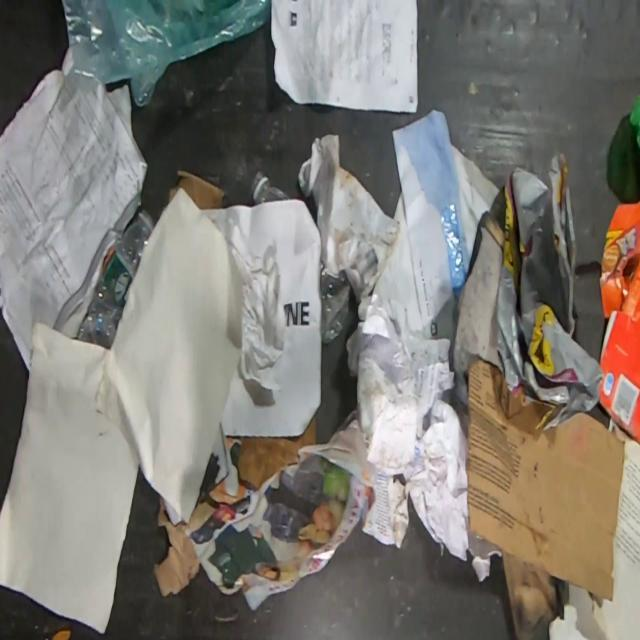cardboard: (465, 359, 625, 607), (496, 154, 602, 431), (598, 199, 640, 445), (502, 551, 562, 640), (169, 170, 224, 209)
rigid_plastic: (76, 209, 156, 350), (319, 259, 350, 345), (251, 171, 290, 205)
soft_plastic: (61, 0, 271, 108)
